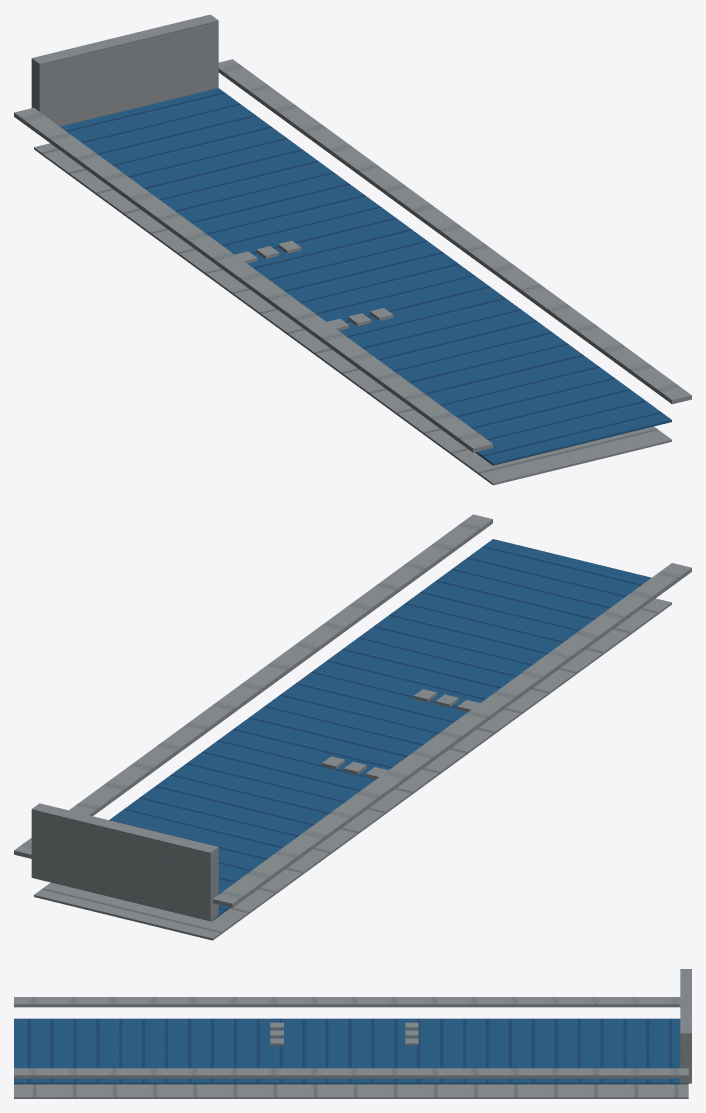
3 renders of one model, top to bottom at view 1: azimuth 30°, elevation 25°; view 2: azimuth 150°, elevation 25°; view 3: azimuth 270°, elevation 25°, orthographic. The views are drawn at different scales.
Parts seen in each view (by area): view 1: node_component_11110_03_03188_002_01_water_plane, node_component_11110_03_03188_002_02_cascade_waterfall, node_component_11110_03_03188_002_03_stepping_stones; view 2: node_component_11110_03_03188_002_01_water_plane, node_component_11110_03_03188_002_02_cascade_waterfall, node_component_11110_03_03188_002_03_stepping_stones; view 3: node_component_11110_03_03188_002_01_water_plane, node_component_11110_03_03188_002_02_cascade_waterfall, node_component_11110_03_03188_002_03_stepping_stones.
Boxes of the visible parts, <box> form: node_component_11110_03_03188_002_01_water_plane: <box>14,59,691,485</box>; node_component_11110_03_03188_002_02_cascade_waterfall: <box>31,14,218,126</box>; node_component_11110_03_03188_002_03_stepping_stones: <box>235,240,393,330</box>; node_component_11110_03_03188_002_01_water_plane: <box>14,514,691,940</box>; node_component_11110_03_03188_002_02_cascade_waterfall: <box>31,803,218,921</box>; node_component_11110_03_03188_002_03_stepping_stones: <box>322,689,479,779</box>; node_component_11110_03_03188_002_01_water_plane: <box>14,997,688,1098</box>; node_component_11110_03_03188_002_02_cascade_waterfall: <box>680,969,691,1083</box>; node_component_11110_03_03188_002_03_stepping_stones: <box>270,1022,418,1045</box>.
Bounding box in the file's own units: 11 × 4.3 × 40.2.
Materials: 3 (3 with a texture image).
